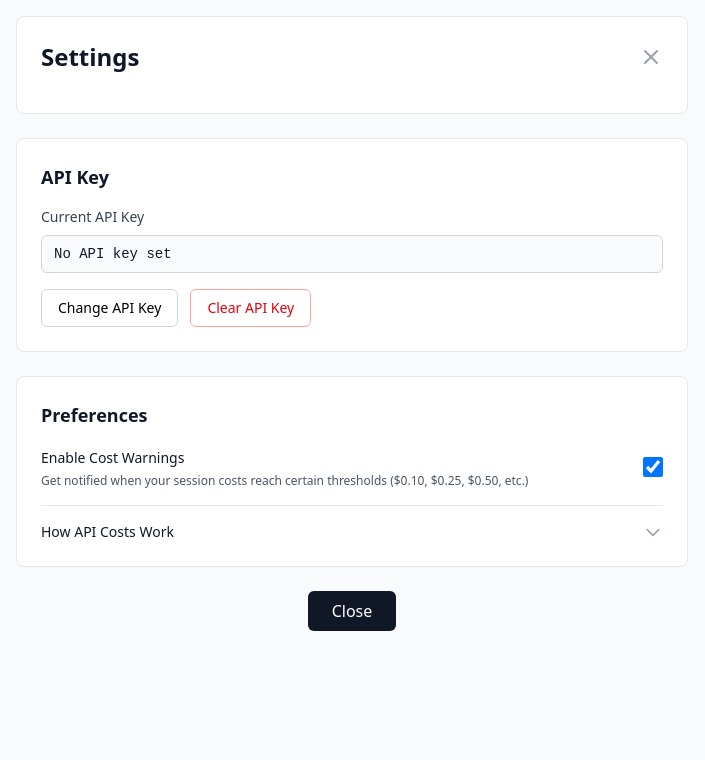
Test: Settings Component › Change API Key › should display error when API validation fails
Click the button "Change API Key" at (110, 308), box [41,289,178,327]
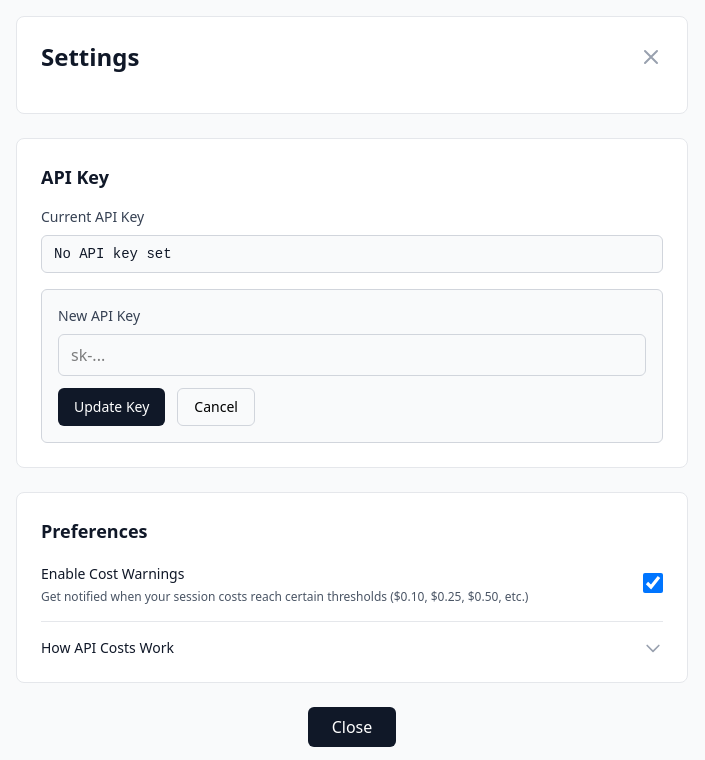
Type "sk-test123456789abcdefghijklmnopqrstuvwxyz" into the password field with placeholder "sk-..." at (352, 355), box [58,334,646,376]
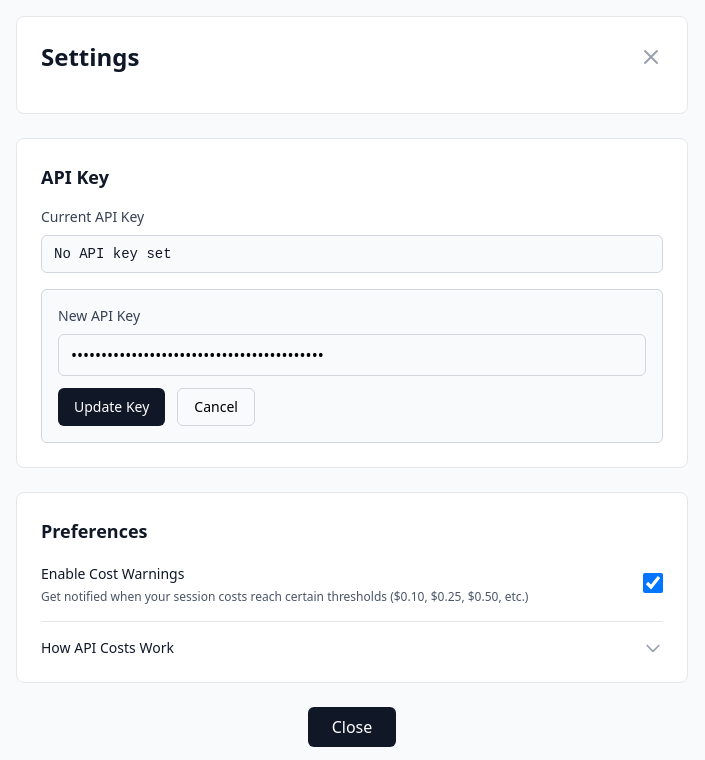
Click the button "Update Key" at (112, 407), box [58,388,165,426]
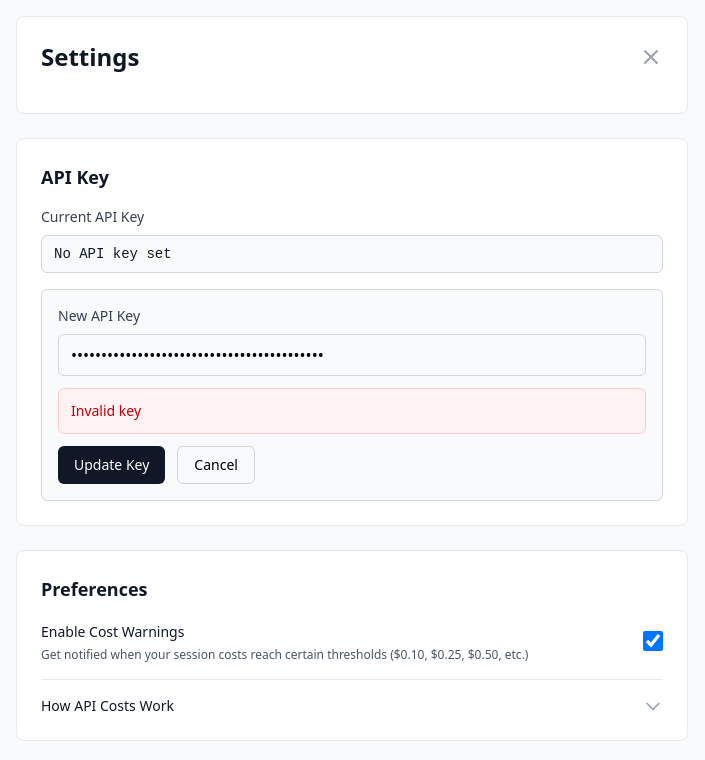
Check: the text "Invalid key" is shown, box [58,388,646,434]
